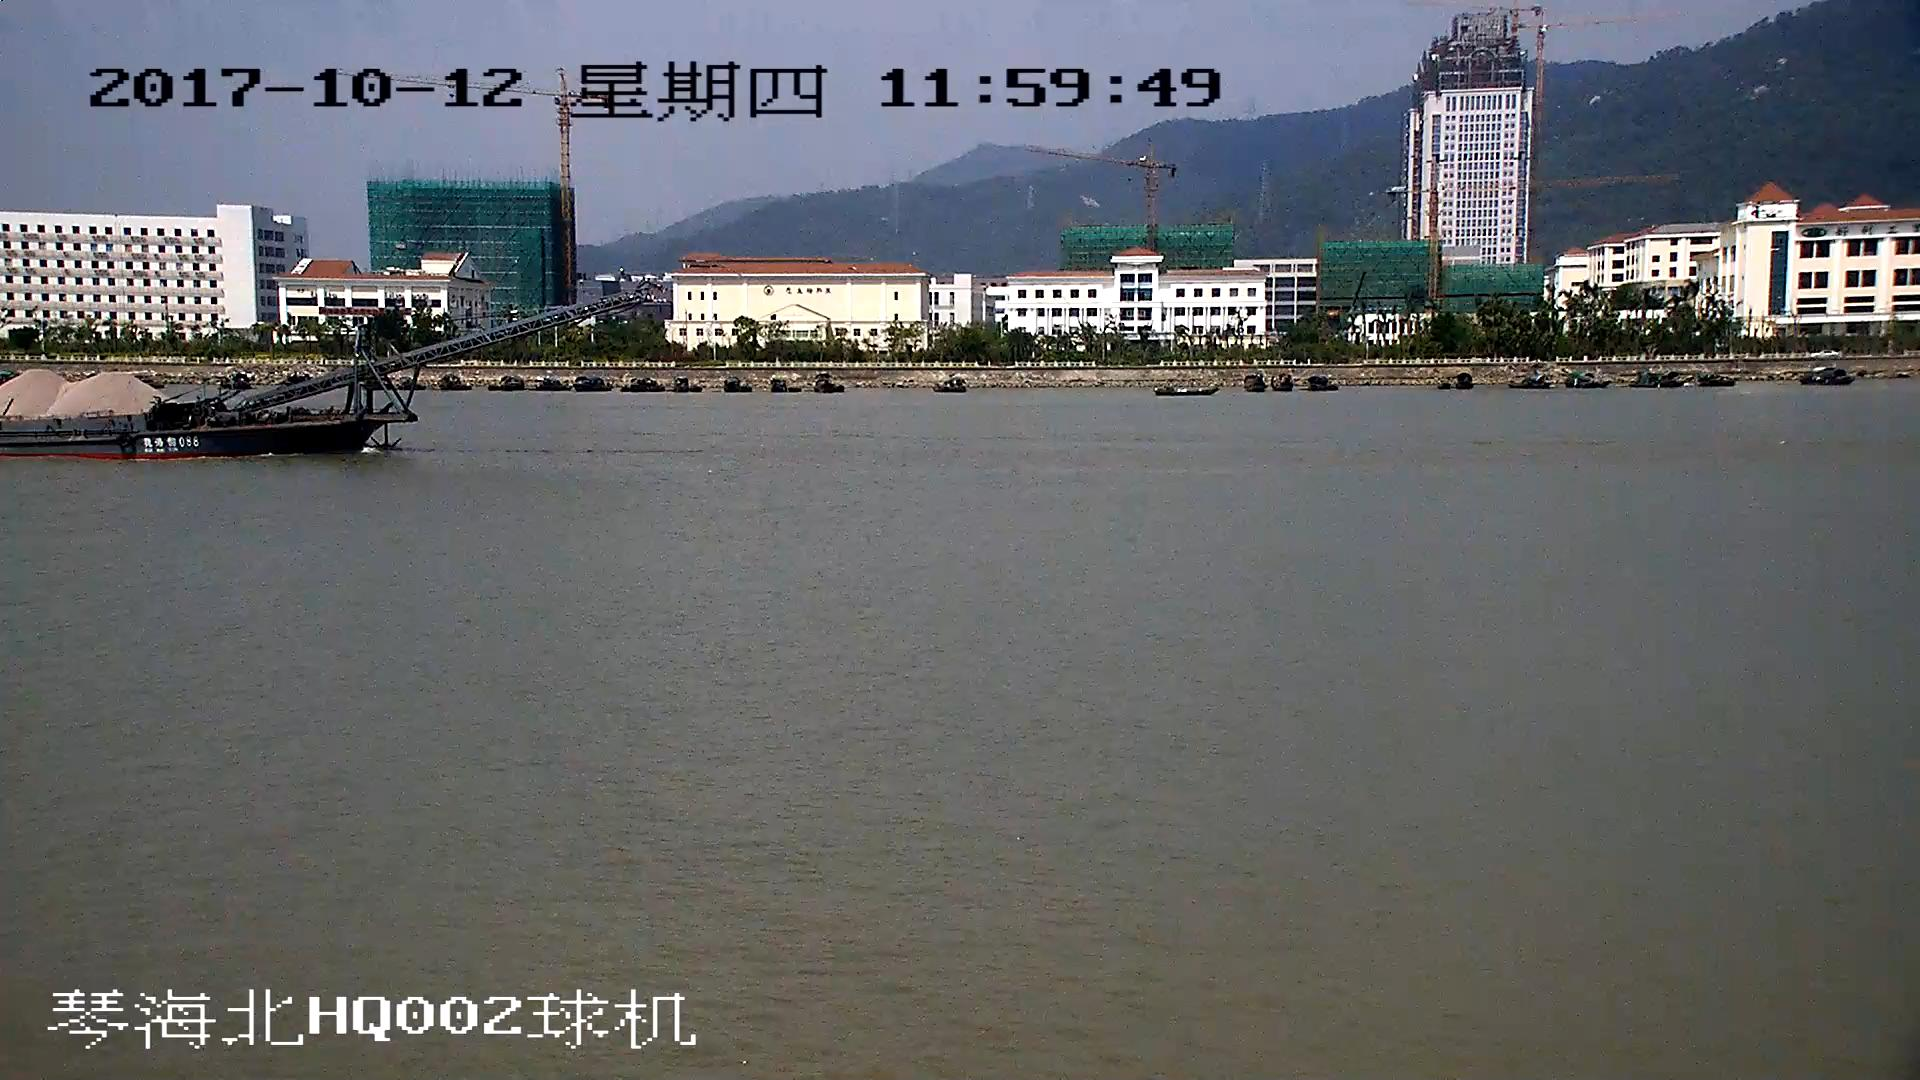ore carrier: (1, 289, 634, 455)
